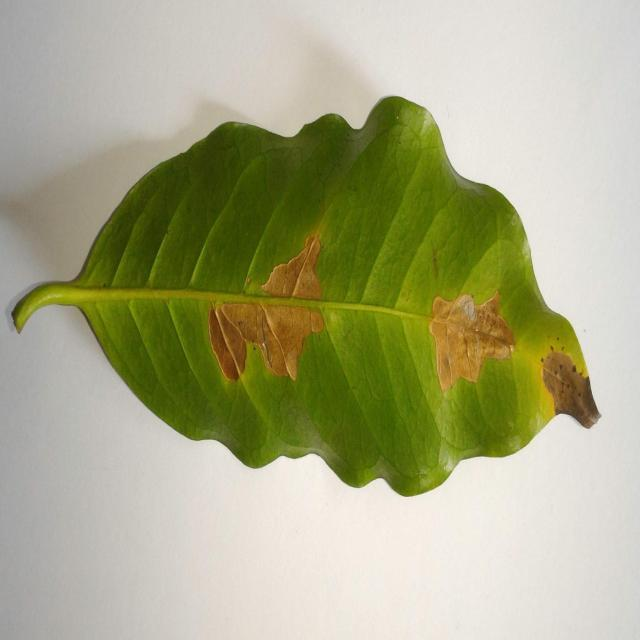Plaga-Minador: (45, 96, 601, 500)
